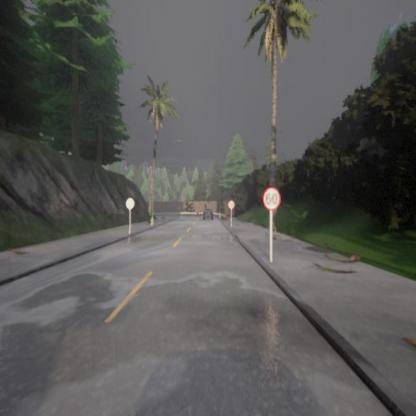traffic_sign_60: (262, 186, 280, 210)
